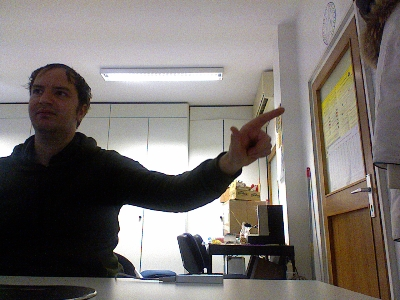枪: (227, 106, 285, 168)
